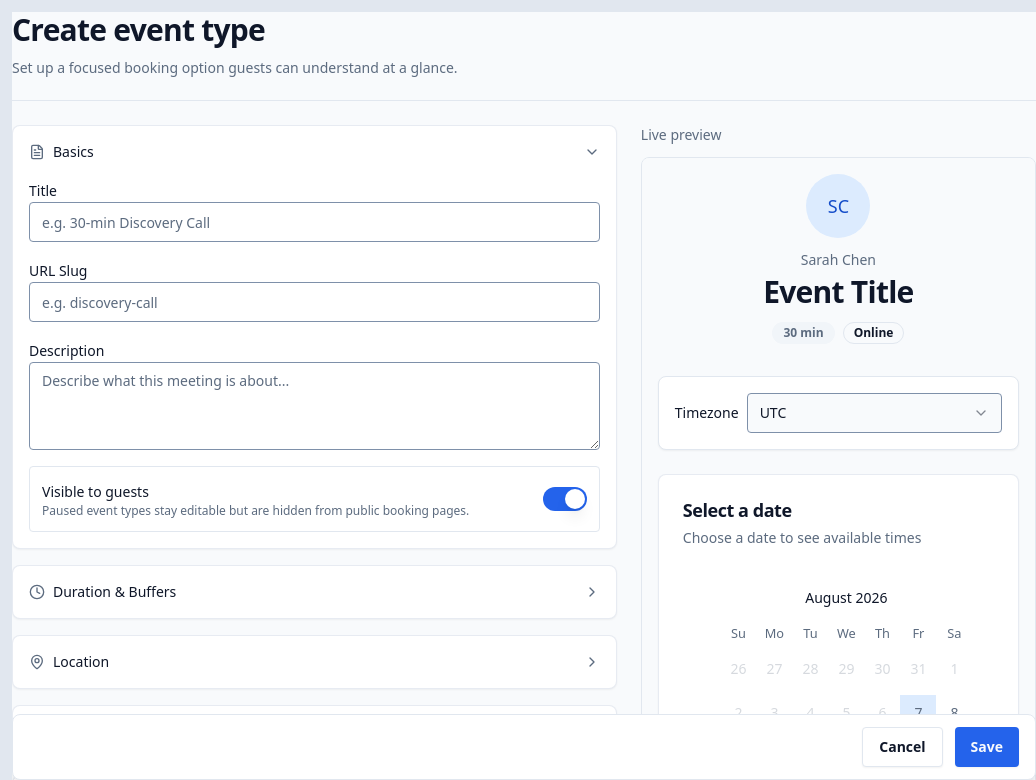
Test case: NewEventTypePage editor › renders an unsaved public schedule shell without requesting availability
Expected: the heading "Event Title" is shown, [763,274,914,310]
Expected: the text "Sarah Chen" is shown, [801,250,876,270]
In the field labelled "Title": (314,222) [29,202,600,242], type "QA Coffee Chat"
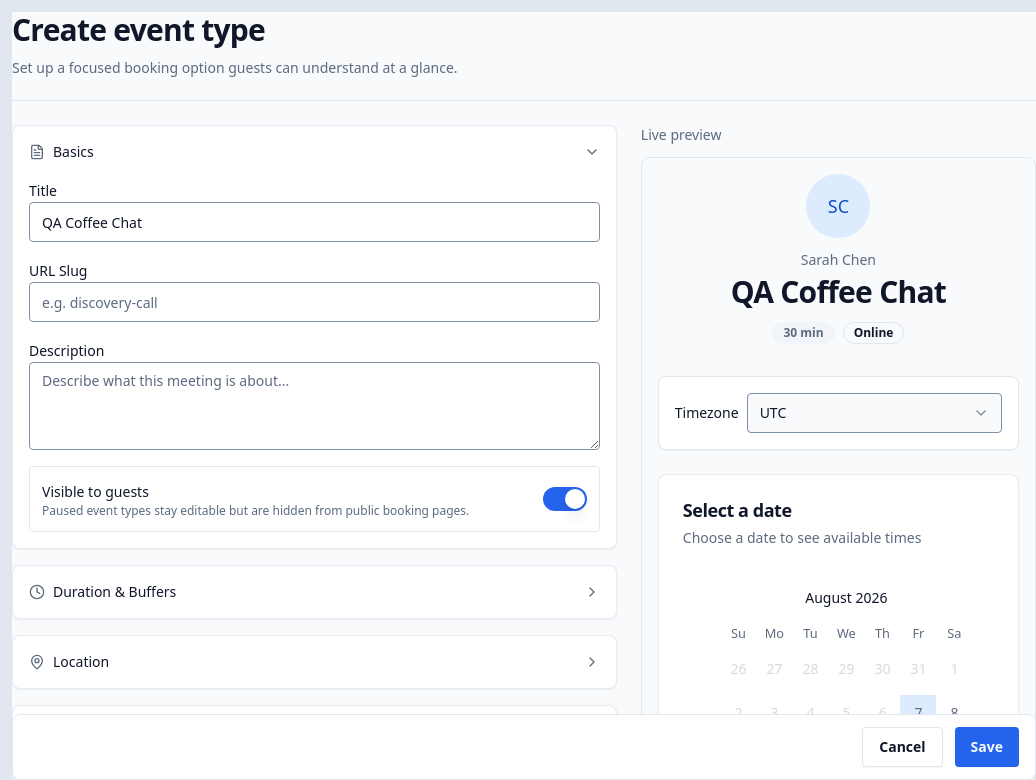
Now the heading "QA Coffee Chat" is shown, box [731,274,946,310]
